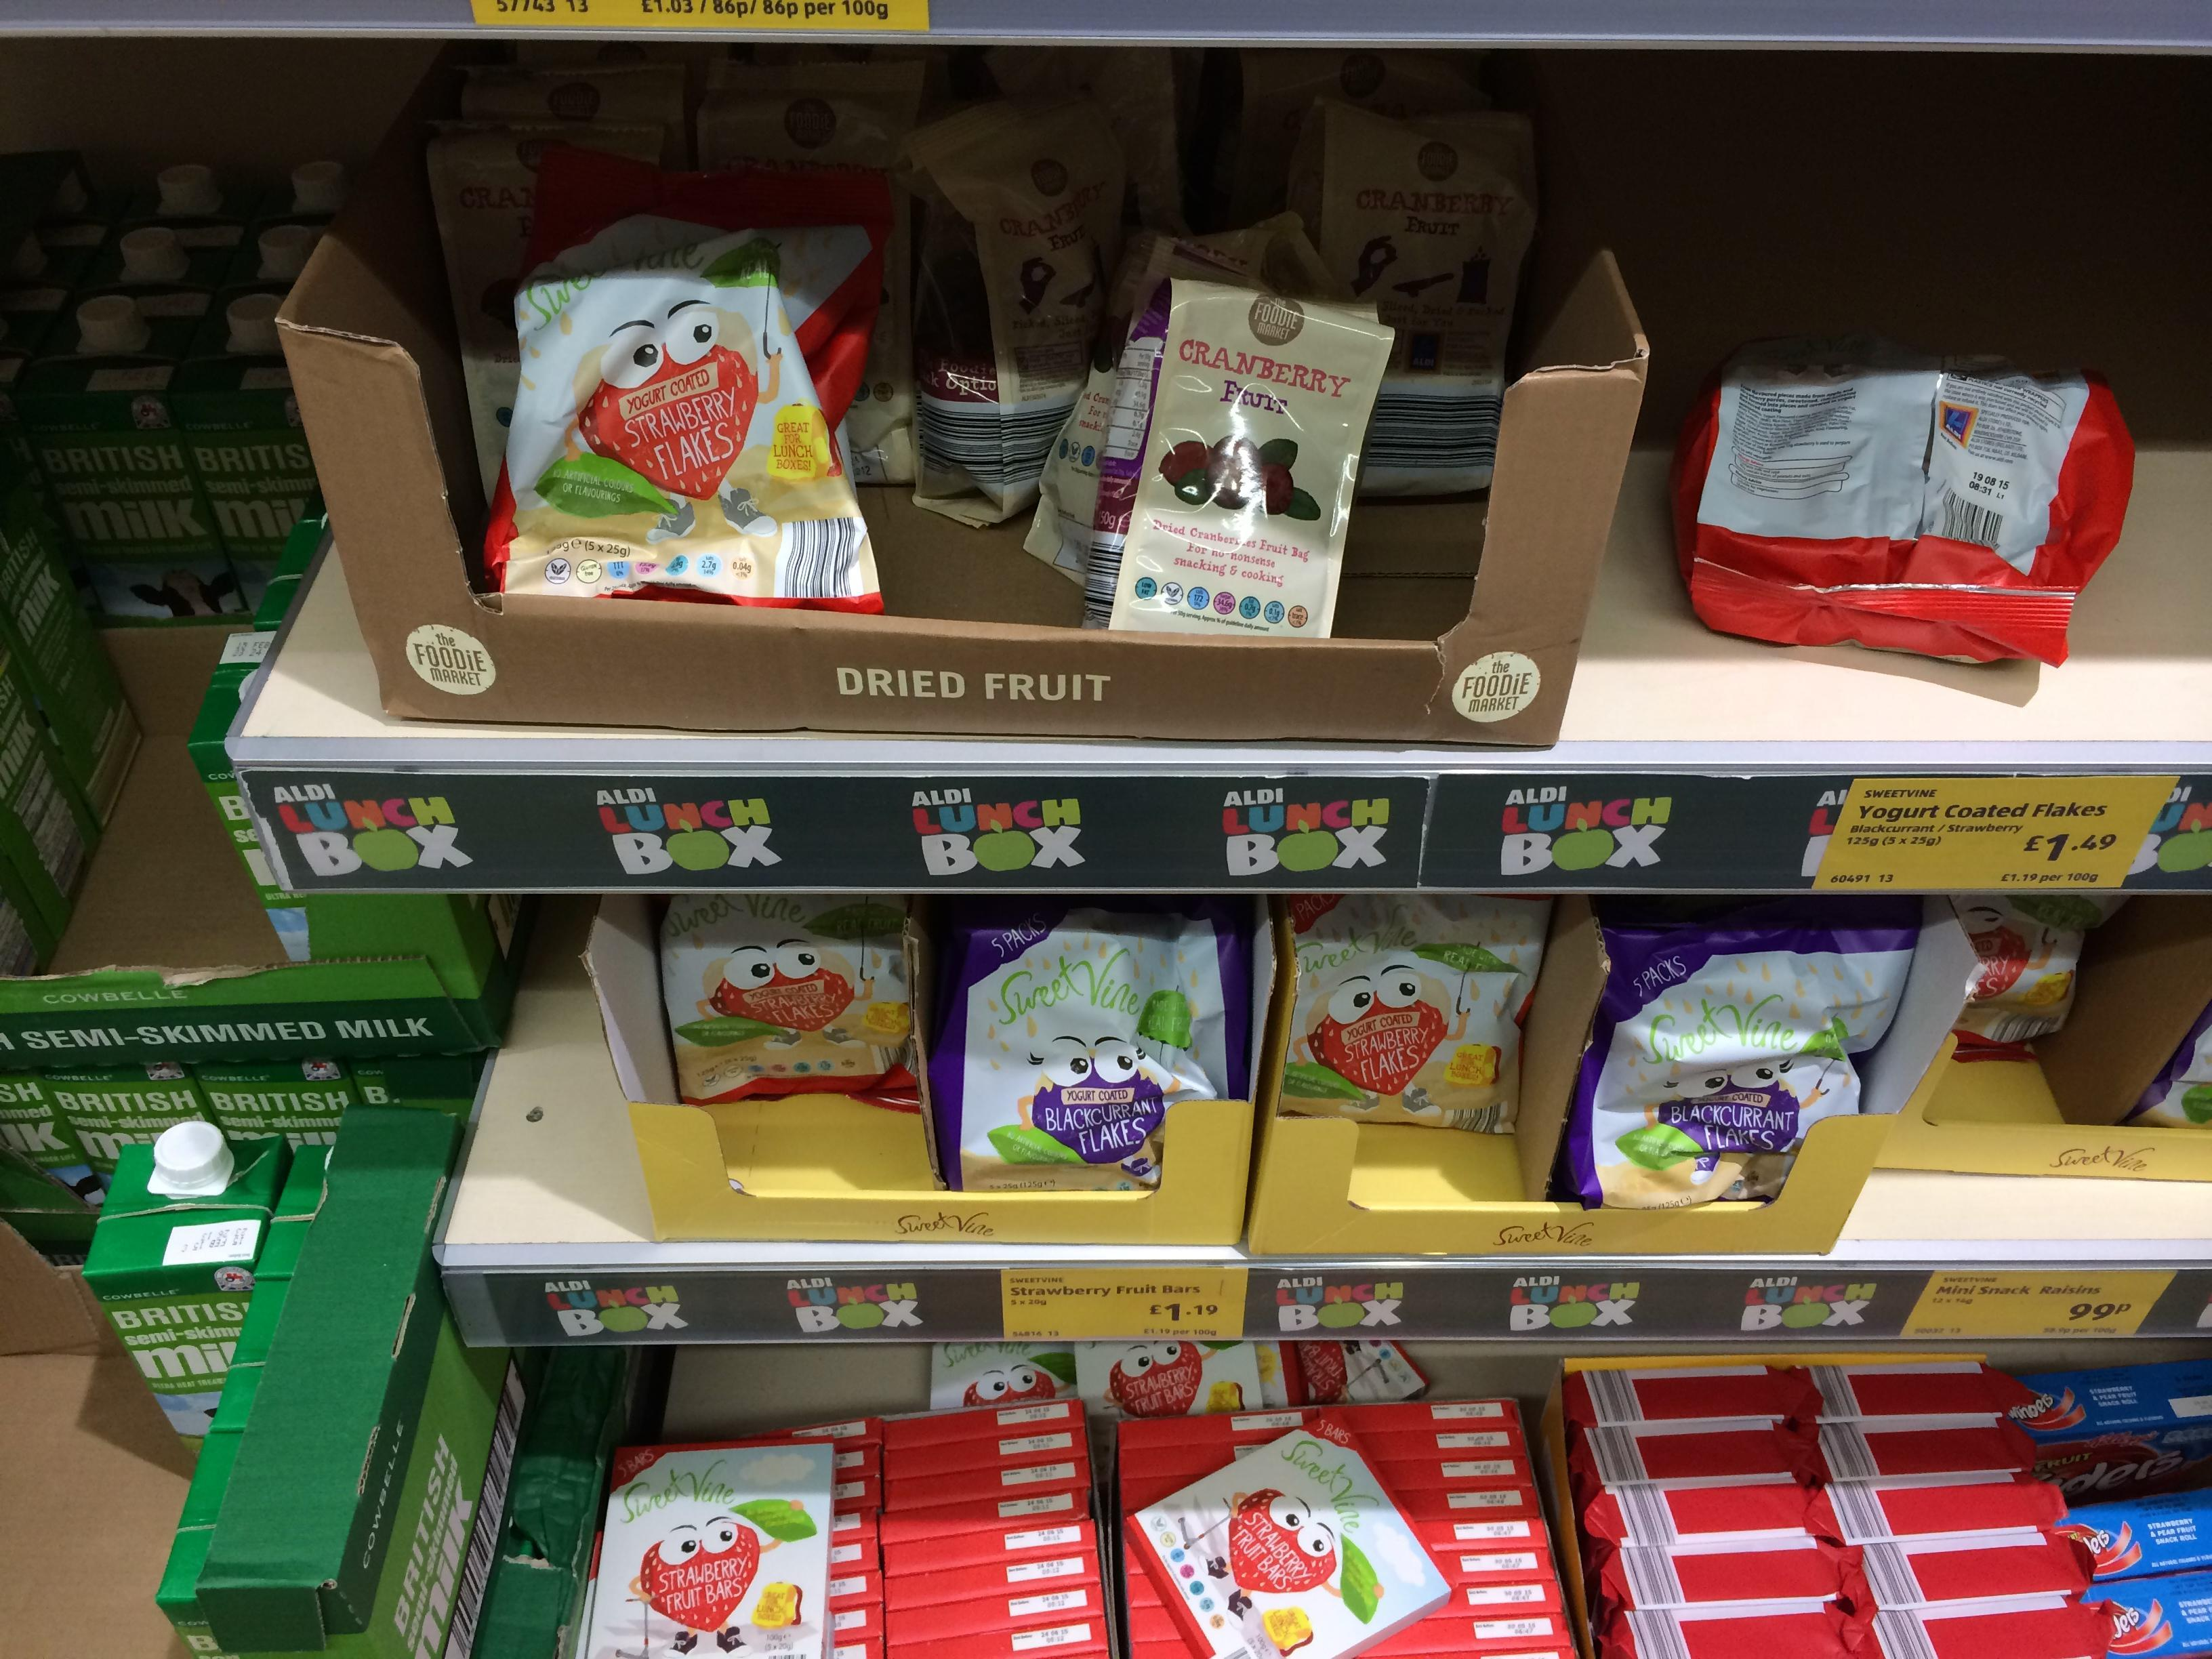fruit: (578, 308, 758, 498), (1308, 965, 1446, 1094), (637, 1516, 759, 1631), (709, 946, 853, 1030), (1228, 1488, 1336, 1595), (1109, 1342, 1202, 1417), (1968, 925, 2026, 1000), (1207, 436, 1263, 511), (963, 1363, 1057, 1406), (1294, 1342, 1348, 1403), (352, 828, 418, 871), (1261, 1605, 1313, 1659), (1550, 826, 1615, 870), (970, 829, 1035, 871), (665, 829, 730, 871), (1275, 831, 1338, 871), (751, 1581, 803, 1628), (2158, 829, 2212, 871), (1287, 894, 1343, 932), (1447, 1046, 1500, 1086), (1162, 439, 1207, 484), (2017, 971, 2073, 1007), (1261, 464, 1294, 514), (862, 1004, 911, 1037), (1174, 471, 1212, 505), (1550, 1302, 1595, 1330), (1780, 1304, 1831, 1328), (1318, 1302, 1366, 1328)
